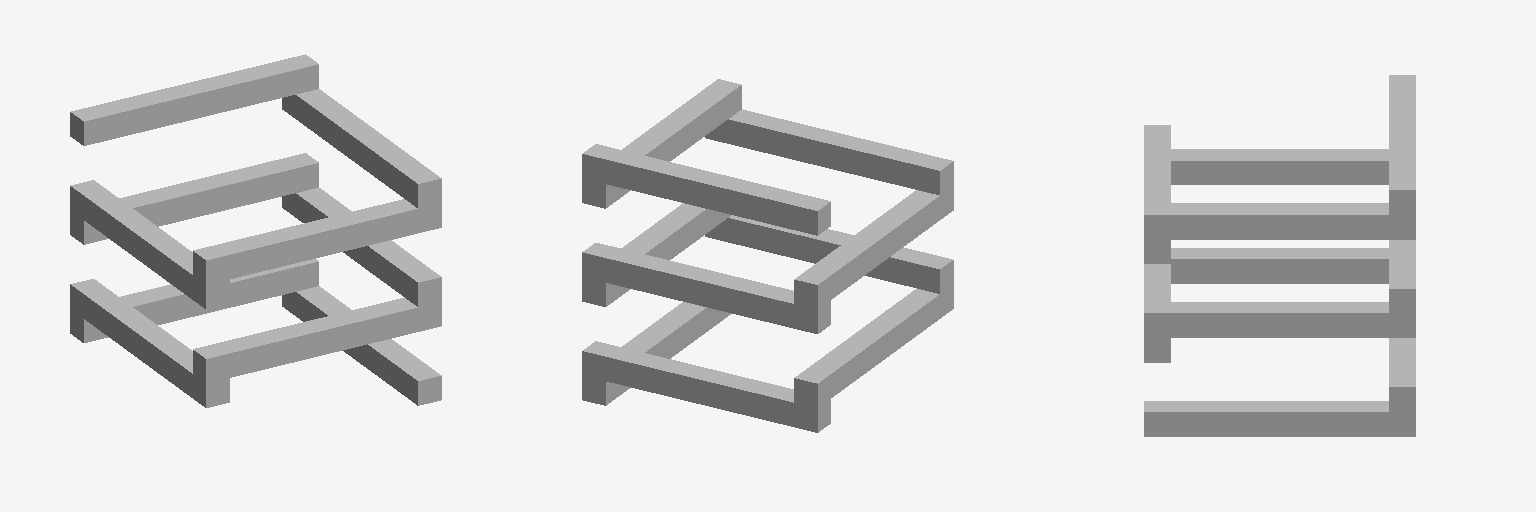
File: spring 1.obj
3 views of the same model, side by side, from view 1: azimuth 30°, elevation 25°; view 2: azimuth 150°, elevation 25°; view 3: azimuth 270°, elevation 25° (orthographic).
Parts seen in each view (by area): view 1: Cube.009, Cube.002, Cube.005, Cube.006, Cube.008, Cube.004, Cube.003, Cube.001, Cube, Cube.007; view 2: Cube.009, Cube.001, Cube.006, Cube.005, Cube.004, Cube.003, Cube.002, Cube.008, Cube, Cube.007; view 3: Cube.008, Cube.007, Cube, Cube.004, Cube.003, Cube.009, Cube.005, Cube.001, Cube.006, Cube.002.
Boxes of the visible parts, box(x1,y1,x2,y2) form: Cube.009: box(70, 54, 318, 145); Cube.002: box(193, 297, 441, 383); Cube.005: box(193, 199, 441, 284); Cube.006: box(70, 153, 318, 244); Cube.008: box(282, 89, 441, 208); Cube.004: box(70, 180, 229, 309); Cube.003: box(70, 279, 229, 407); Cube.001: box(70, 259, 318, 342); Cube: box(282, 286, 441, 405); Cube.007: box(282, 188, 441, 306); Cube.009: box(582, 144, 830, 235); Cube.001: box(582, 341, 830, 432); Cube.006: box(582, 243, 830, 333); Cube.005: box(705, 109, 953, 194); Cube.004: box(794, 186, 953, 309); Cube.003: box(794, 284, 953, 407); Cube.002: box(705, 215, 953, 293); Cube.008: box(582, 79, 741, 208); Cube: box(582, 302, 731, 405); Cube.007: box(582, 203, 730, 306); Cube.008: box(1144, 203, 1415, 239); Cube.007: box(1144, 302, 1415, 337); Cube: box(1144, 401, 1415, 436); Cube.004: box(1171, 149, 1388, 184); Cube.003: box(1171, 248, 1388, 283); Cube.009: box(1389, 75, 1415, 214); Cube.005: box(1144, 125, 1170, 263); Cube.001: box(1389, 338, 1415, 411); Cube.006: box(1389, 240, 1415, 312); Cube.002: box(1144, 264, 1170, 362).
Bounding box in the file's own units: 2 × 2 × 2.